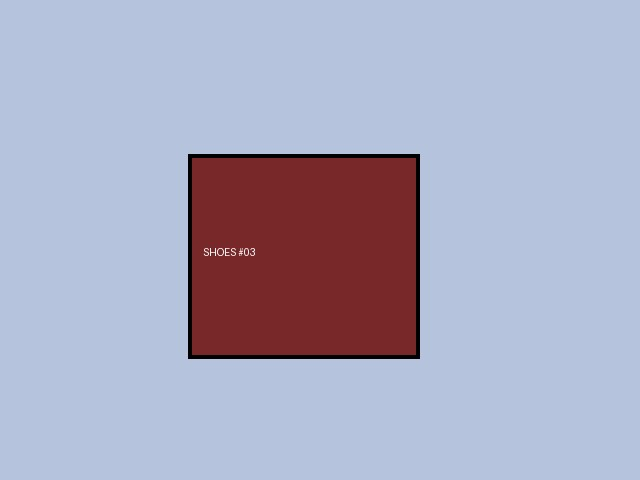shoes: (188, 154, 419, 358)
